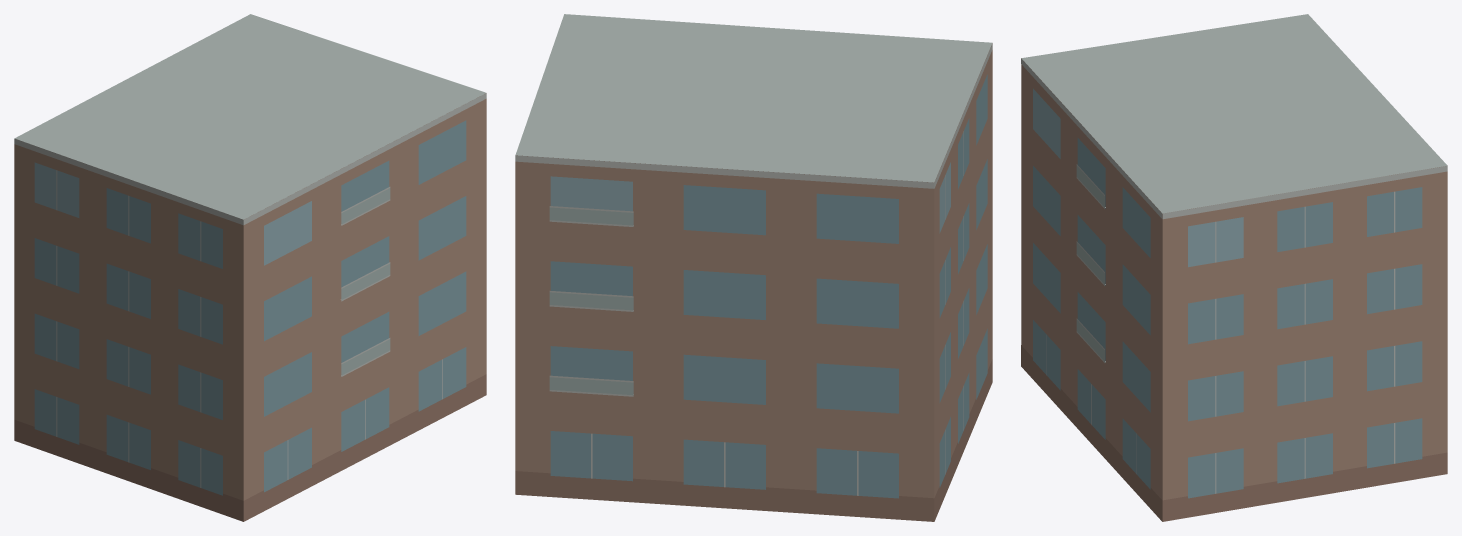
The model's file is survey-upis-32862756.glb.
3 renders of one model, left to right at view 1: azimuth 30°, elevation 25°; view 2: azimuth 150°, elevation 25°; view 3: azimuth 270°, elevation 25°, orthographic. The views are drawn at different scales.
Parts seen in each view (by area): view 1: survey-upis-32862756.tmp; view 2: survey-upis-32862756.tmp; view 3: survey-upis-32862756.tmp.
Part boxes in pixels (<box>): survey-upis-32862756.tmp: <box>14,14,486,521</box>; survey-upis-32862756.tmp: <box>515,14,992,521</box>; survey-upis-32862756.tmp: <box>1021,14,1447,521</box>.
Bounding box in the file's own units: 18.13 × 13.05 × 16.37.
